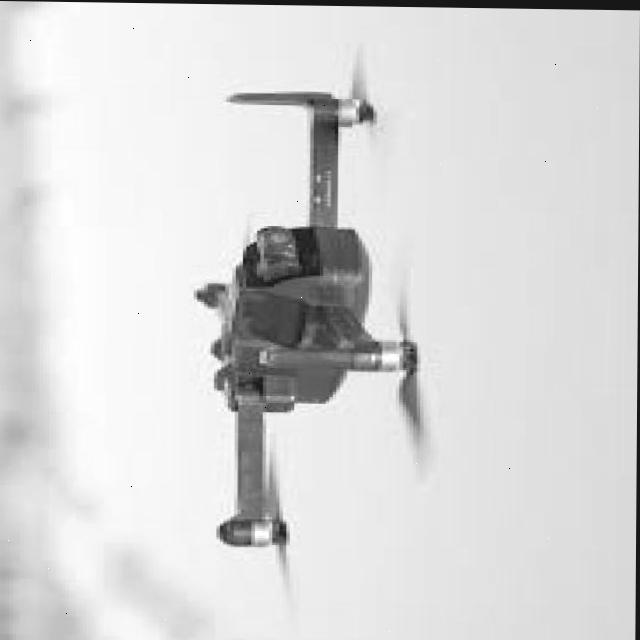drone: (163, 46, 445, 615)
